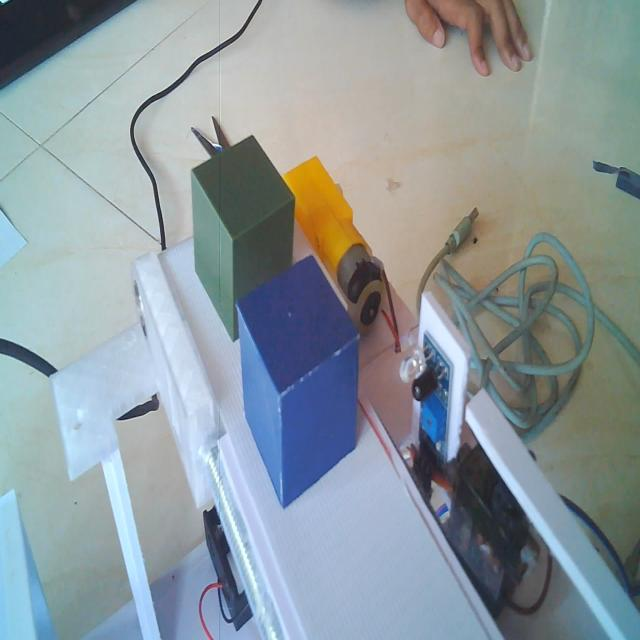blue: (234, 251, 364, 514)
green: (185, 132, 299, 346)
